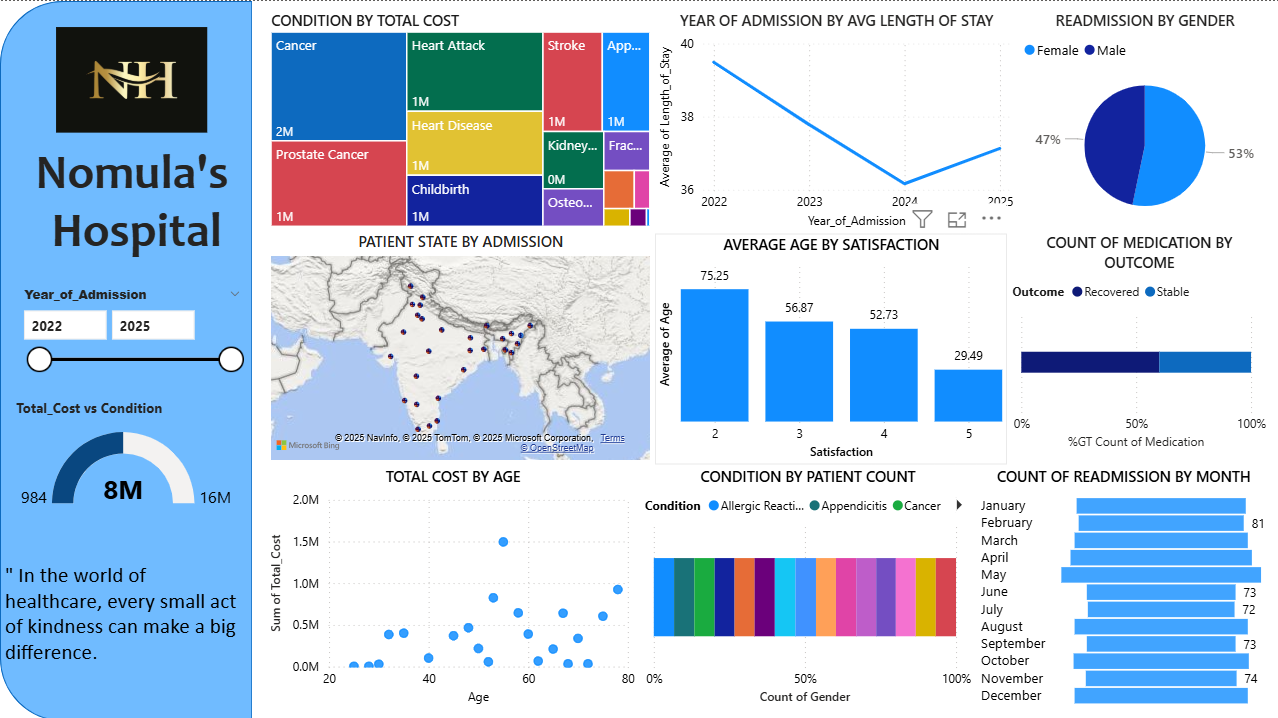

The page's visual inventory and layout, read from the dashboard file:
{"tool":"powerbi","page":{"name":"Nomula's Hospital","canvas":[1280,720],"ordinal":0},"visuals":[{"type":"barChart","title":"COUNT OF MEDICATION BY OUTCOME","fields":{"Y":["Hospital Patient.Medication "],"Series":["Hospital Patient.Outcome"]},"box":[1007.5,231.2,263.8,222.5],"z":0},{"type":"treemap","title":"CONDITION BY TOTAL COST","fields":{"Details":["Hospital Patient.Condition"],"Values":["Hospital Patient.Total_Cost"]},"box":[266.2,8.8,388.8,221.2],"z":1000},{"type":"hundredPercentStackedBarChart","title":"CONDITION BY PATIENT COUNT","fields":{"Series":["Hospital Patient.Condition"],"Y":["Hospital Patient.Gender"]},"box":[640,465,336.2,243.8],"z":2000},{"type":"lineChart","title":"YEAR OF ADMISSION BY AVG LENGTH OF STAY","fields":{"Category":["Hospital Patient.Year_of_Admission"],"Y":["Hospital Patient.Length_of_Stay"]},"box":[655.1,8.4,363.1,223.2],"z":3000},{"type":"scatterChart","title":"TOTAL COST BY AGE","fields":{"X":["Hospital Patient.Age"],"Y":["Hospital Patient.Total_Cost"]},"box":[266.2,465,373.8,243.8],"z":4000},{"type":"map","title":"PATIENT STATE BY ADMISSION","fields":{"Category":["Hospital Patient.Patient_State"],"Series":["Hospital Patient.Year_of_Admission"]},"box":[266.2,230,388.8,233.8],"z":5000},{"type":"funnel","title":"COUNT OF READMISSION BY MONTH","fields":{"Category":["Hospital Patient.Admission_Date.Variation.Date Hierarchy.Month"],"Y":["Hospital Patient.Readmission"]},"box":[976.2,465,295,243.8],"z":6000},{"type":"shape","box":[0,0,252.1,720.2],"z":7000},{"type":"textbox","box":[0,370.4,252.1,94.1],"z":8000},{"type":"slicer","fields":{"Values":["Hospital Patient.Year_of_Admission"]},"box":[11.2,280,241.2,117.5],"z":9000},{"type":"image","box":[11.2,21.2,241.2,115],"z":10000},{"type":"gauge","title":"Total_Cost vs Condition","fields":{"Y":["Hospital Patient.Total_Cost"],"MinValue":["Hospital Patient.Condition"]},"box":[11.2,397.5,230,126.2],"z":11000},{"type":"pieChart","title":"READMISSION BY GENDER","fields":{"Category":["Hospital Patient.Gender"],"Y":["Hospital Patient.Readmission"]},"box":[1018.8,8.8,252.5,222.5],"z":12000},{"type":"textbox","box":[0,136.2,252.5,130],"z":13000},{"type":"columnChart","title":"AVERAGE AGE BY SATISFACTION","fields":{"Category":["Hospital Patient.Satisfaction"],"Y":["Hospital Patient.Age"]},"box":[655,232.5,352.5,231.2],"z":14000},{"type":"textbox","box":[0,556.2,252.5,116.2],"z":15000},{"type":"textbox","box":[191.2,136.2,61.2,80],"z":16000}]}

Visuals, with their boxes in screenshot pixels (x1, y1, x2, y2), scaled from the page's 1280x720 canvas onto the 1278x718 screenshot:
"COUNT OF MEDICATION BY OUTCOME" barChart: detection(1006, 231, 1269, 452)
"CONDITION BY TOTAL COST" treemap: detection(266, 9, 654, 229)
"CONDITION BY PATIENT COUNT" hundredPercentStackedBarChart: detection(639, 464, 975, 707)
"YEAR OF ADMISSION BY AVG LENGTH OF STAY" lineChart: detection(654, 8, 1017, 231)
"TOTAL COST BY AGE" scatterChart: detection(266, 464, 639, 707)
"PATIENT STATE BY ADMISSION" map: detection(266, 229, 654, 463)
"COUNT OF READMISSION BY MONTH" funnel: detection(975, 464, 1269, 707)
shape: detection(0, 0, 252, 717)
textbox: detection(0, 369, 252, 463)
slicer - Hospital Patient.Year_of_Admission: detection(11, 279, 252, 396)
image: detection(11, 21, 252, 136)
"Total_Cost vs Condition" gauge: detection(11, 396, 241, 522)
"READMISSION BY GENDER" pieChart: detection(1017, 9, 1269, 231)
textbox: detection(0, 136, 252, 265)
"AVERAGE AGE BY SATISFACTION" columnChart: detection(654, 232, 1006, 462)
textbox: detection(0, 555, 252, 671)
textbox: detection(191, 136, 252, 216)
